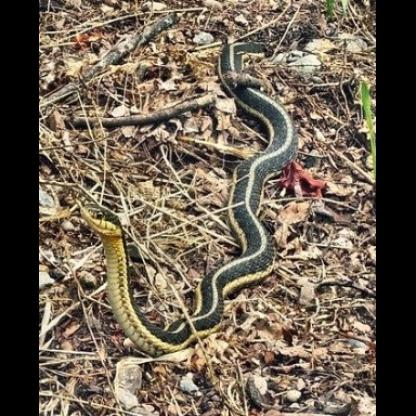Snake: (80, 8, 328, 360)
